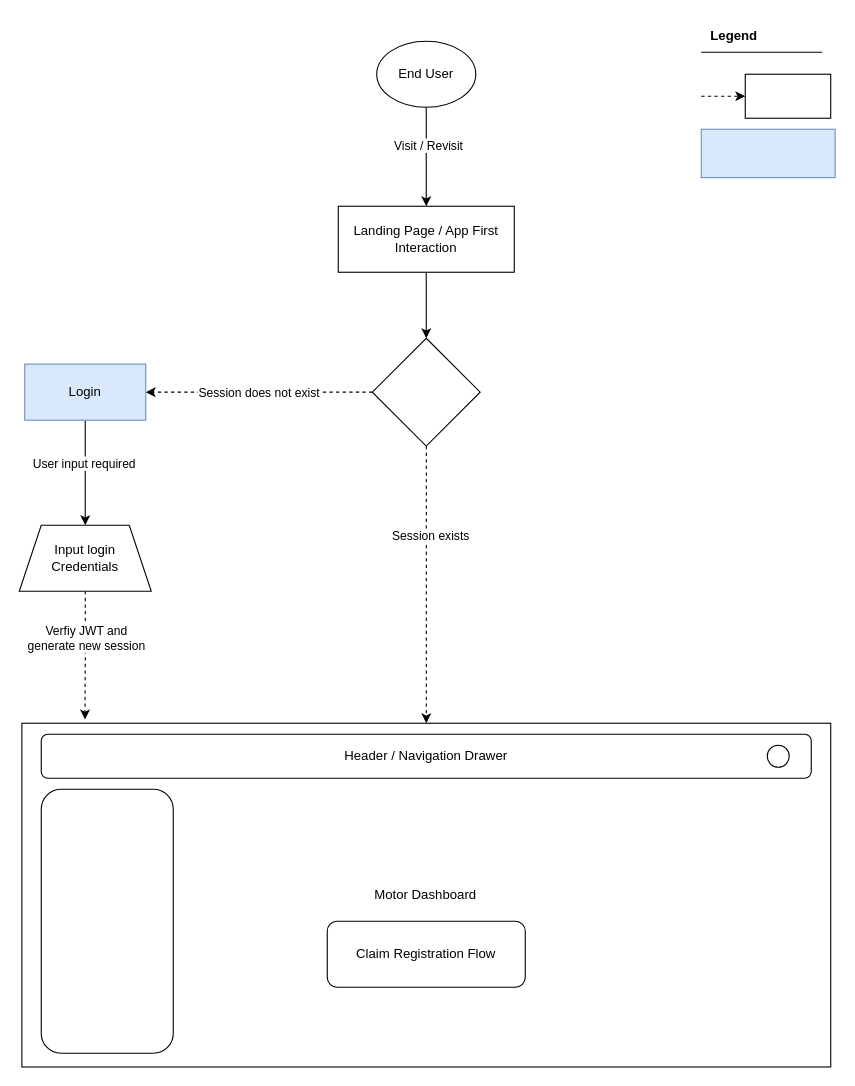
This 855x1086 diagram has some shape labels left out. The centre of each missing label's shape, as x and y in pixels:
Check login session: pixel 425 391
Lazy Loaded Component: pixel 787 95
Shared Component: pixel 767 153
Sidebar with Default Selection of Page: pixel 106 920
